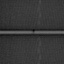dust: (31, 28, 36, 31)
